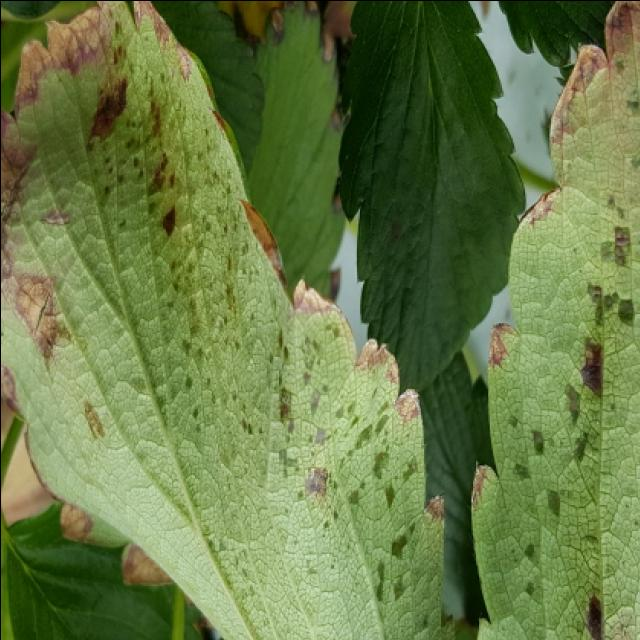Angular Leafspot: (2, 2, 455, 640), (470, 2, 640, 640)
